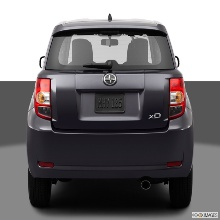no damage: (27, 19, 195, 209)
